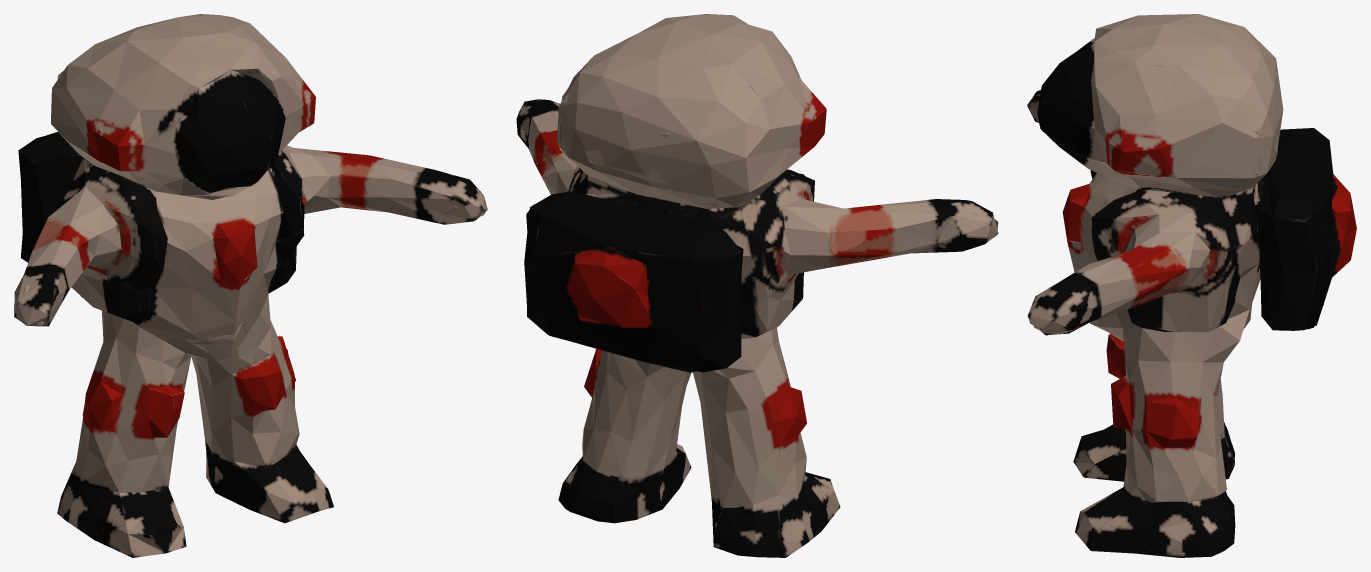
File: astronaut.glb
3 views of the same model, side by side, from view 1: azimuth 30°, elevation 25°; view 2: azimuth 150°, elevation 25°; view 3: azimuth 270°, elevation 25° (orthographic). The views are drawn at different scales.
Visible parts, largest first — view 1: geometry_0; view 2: geometry_0; view 3: geometry_0.
Boxes of the visible parts, left/top/right/bottom form: geometry_0: left=14, top=14, right=487, bottom=557; geometry_0: left=516, top=14, right=998, bottom=557; geometry_0: left=1027, top=14, right=1356, bottom=557.
Size of the model in its own units: 0.9913 by 0.9561 by 0.6068.
1 material, 1 textured.
